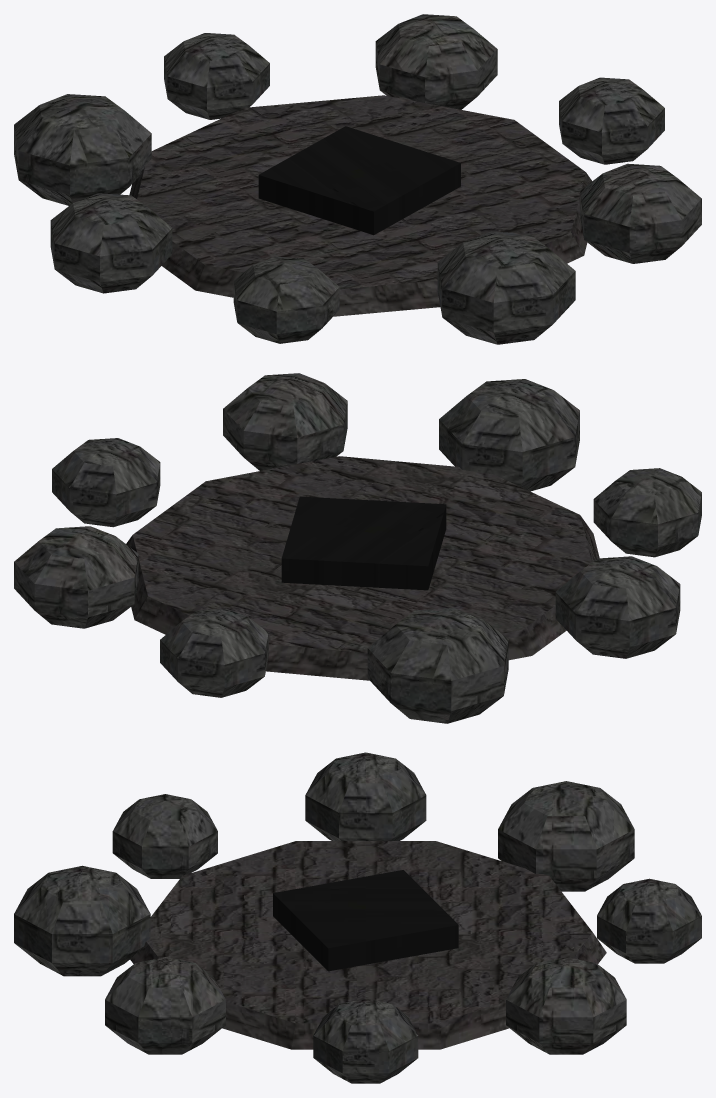
Rendered from nightecho_ember_base_01.glb.
3 renders of one model, top to bottom at view 1: azimuth 30°, elevation 25°; view 2: azimuth 150°, elevation 25°; view 3: azimuth 270°, elevation 25°, orthographic. The views are drawn at different scales.
Visible parts, largest first — view 1: nightecho_ember_base_01; view 2: nightecho_ember_base_01; view 3: nightecho_ember_base_01.
Boxes of the visible parts, x1,y1,x2,y2 form: nightecho_ember_base_01: (14,14,701,344); nightecho_ember_base_01: (14,373,701,723); nightecho_ember_base_01: (14,752,701,1083).
Bounding box in the file's own units: 2.39 × 0.364 × 2.43.
3 materials, 3 textured.
